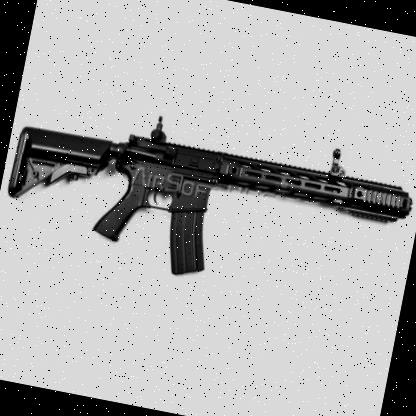rifle: (0, 91, 416, 339)
